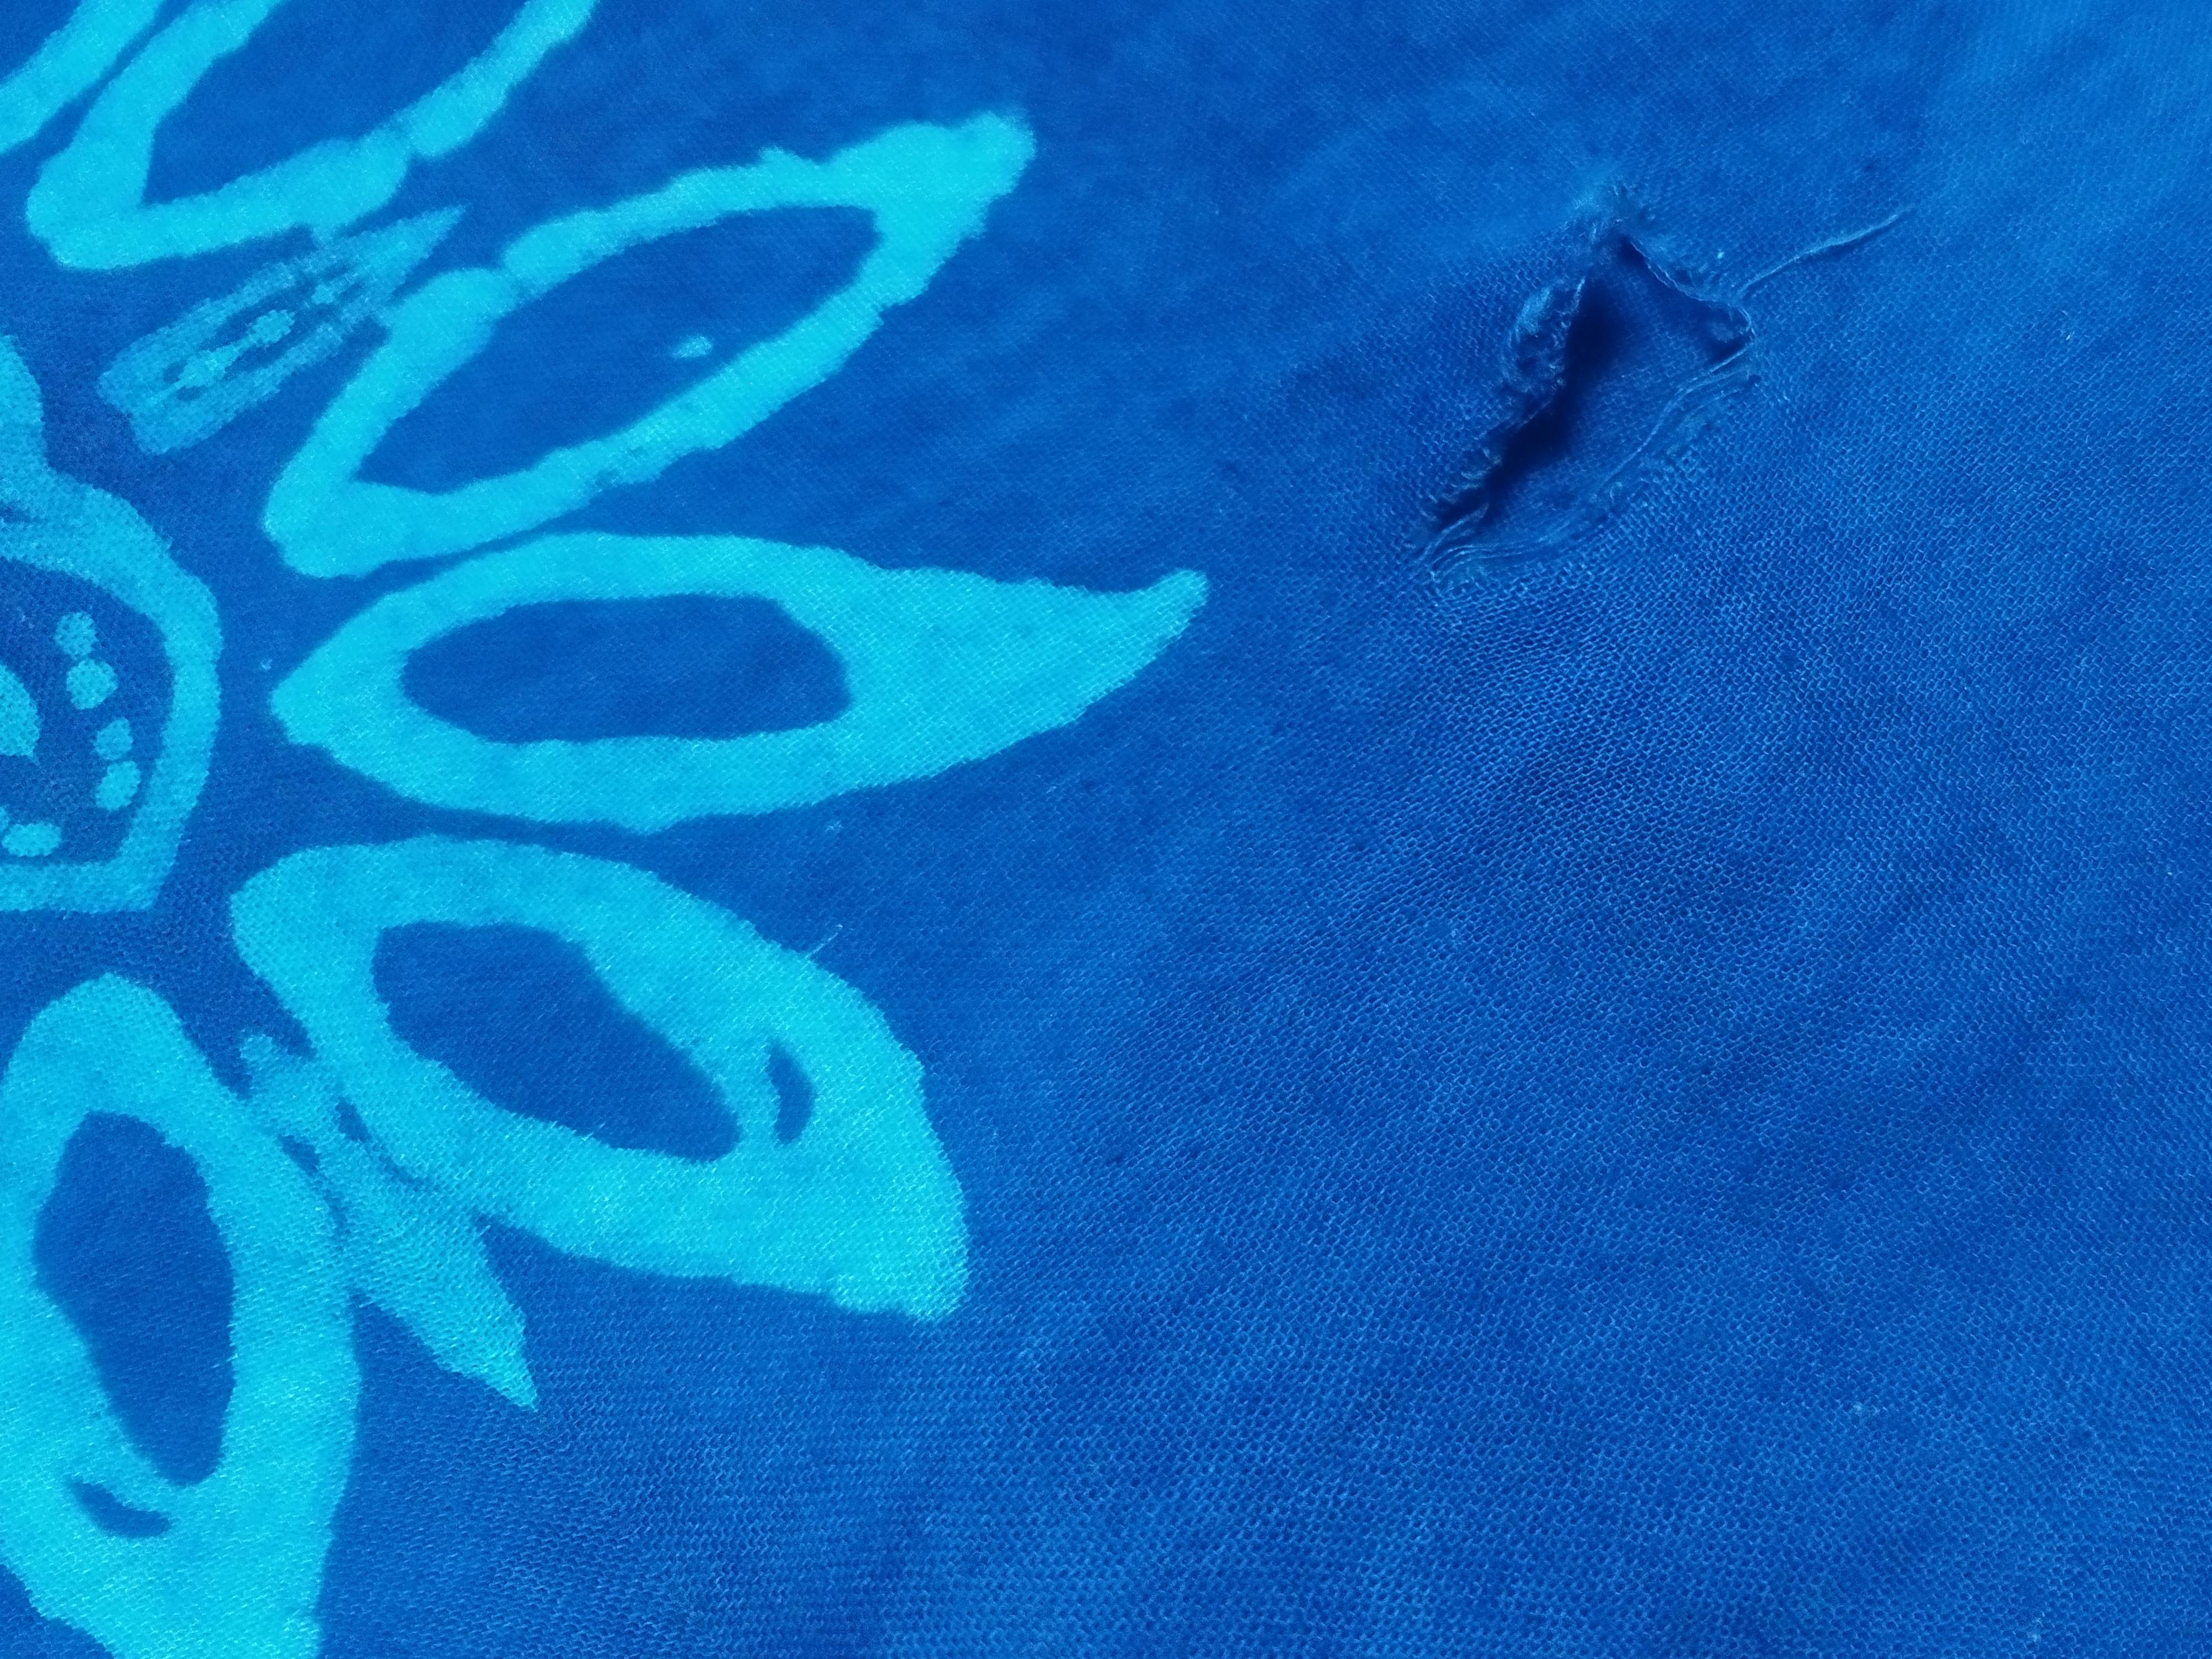hole: (1425, 206, 1766, 586)
